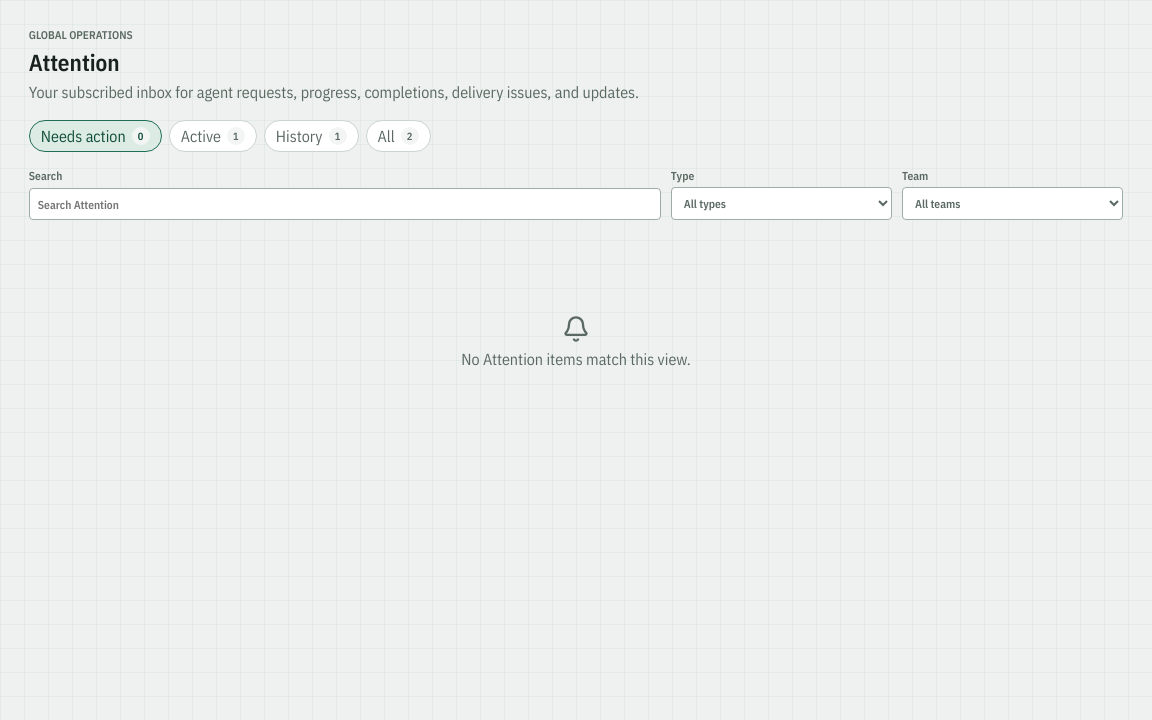
Test case: projected status route panels › separates active and history views with action diagnostics and timestamps
Expected: the button "History 1" is shown, [264,120,359,152]
Step 1. Click the button "Active 1" → point(213, 136), box [169,120,257,152]
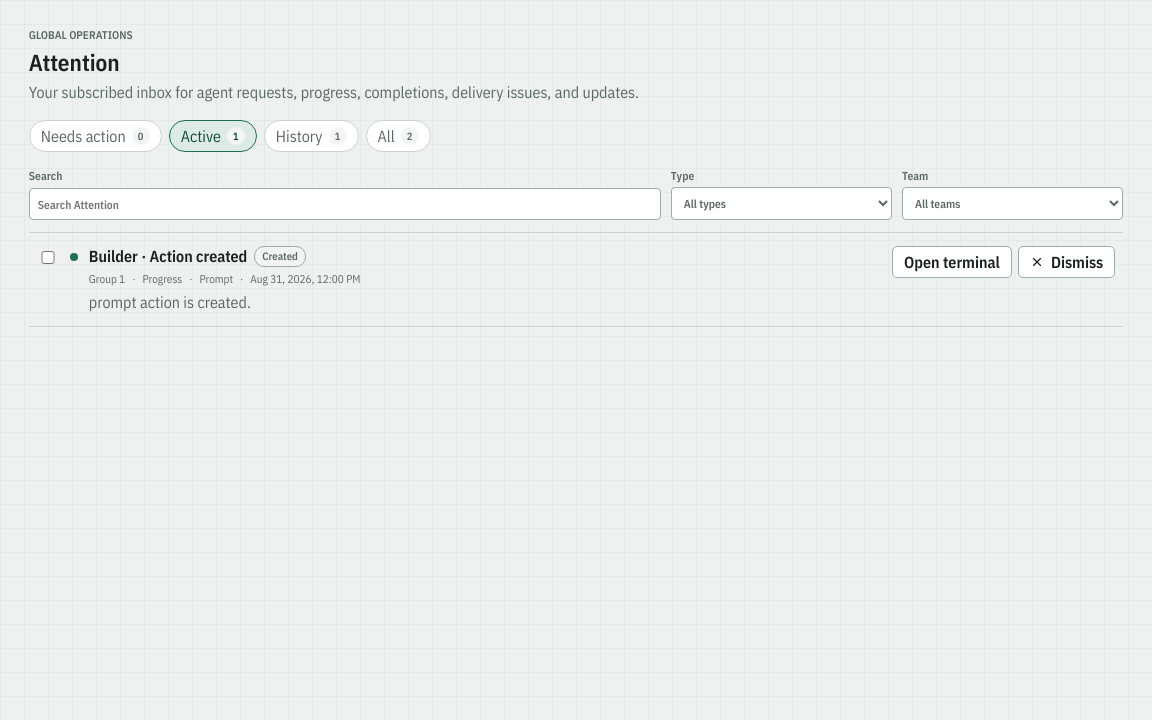
Expected: the text "Delivery unconfirmed" is not shown
Expected: the text "Builder · Action created" is shown, [89,246,247,266]
Step 2. Click the button "History 1" → point(311, 136), box [264,120,359,152]
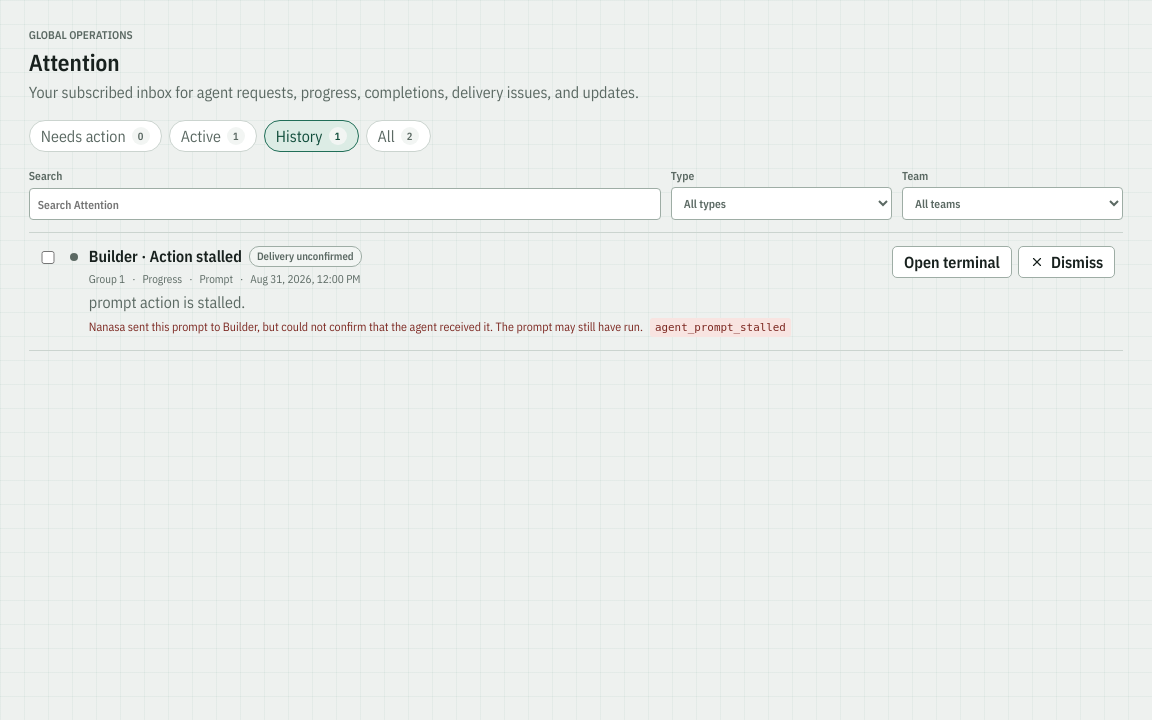
Expected: the text "Builder · Action created" is gone
Expected: the text "Delivery unconfirmed" is shown, [249,246,362,267]
Expected: the element titled "Diagnostic code: agent_prompt_stalled" shows "Nanasa sent this prompt to Builder, but could not confirm that the agent received it. The prompt may still have run.", [89,319,643,334]
